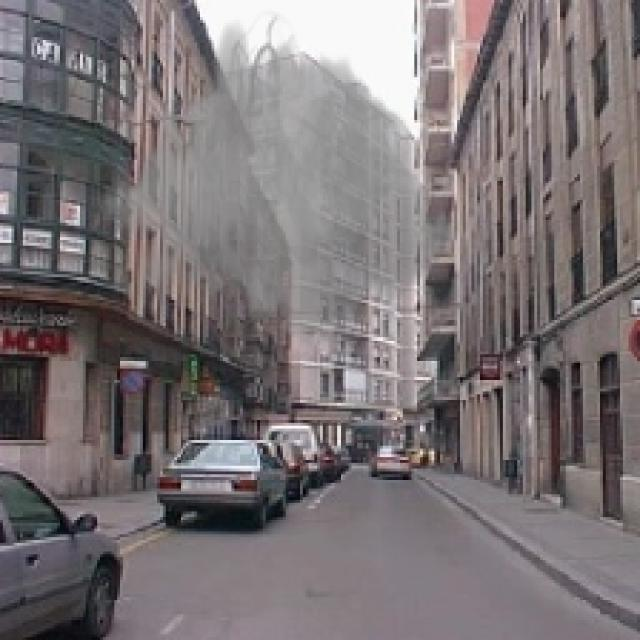smoke: (97, 9, 454, 380)
